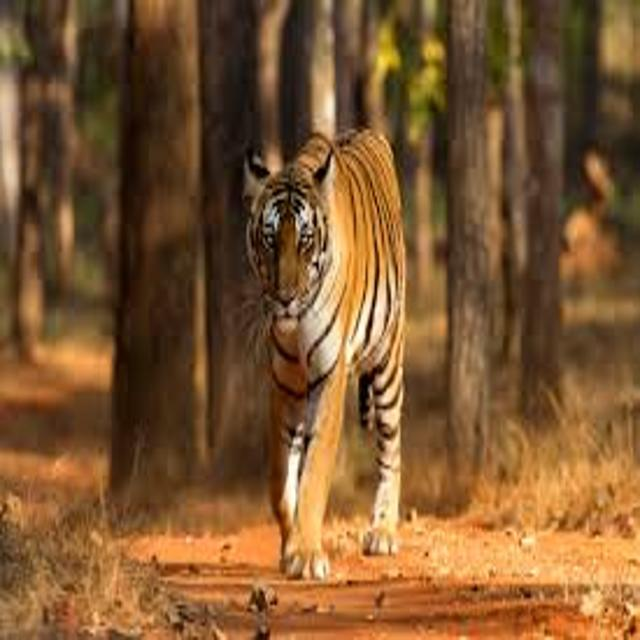tiger: (198, 82, 455, 608)
